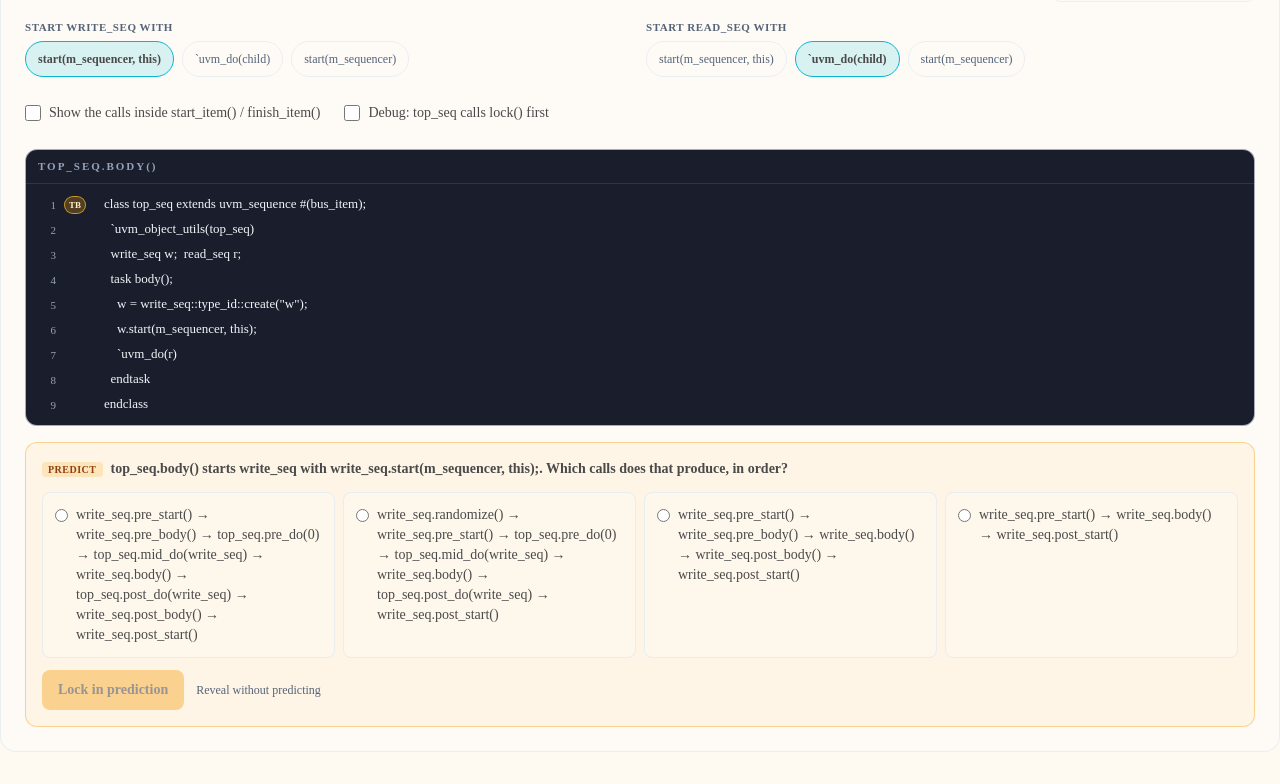
Test: UvmSequenceHierarchyVisualizer › `uvm_do skips pre_body/post_body for read_seq (call_pre_post = 0)
(page scrolled)
Click the button "Reveal without predicting" at (258, 690), box 196,682 -> 321,698
(page scrolled)
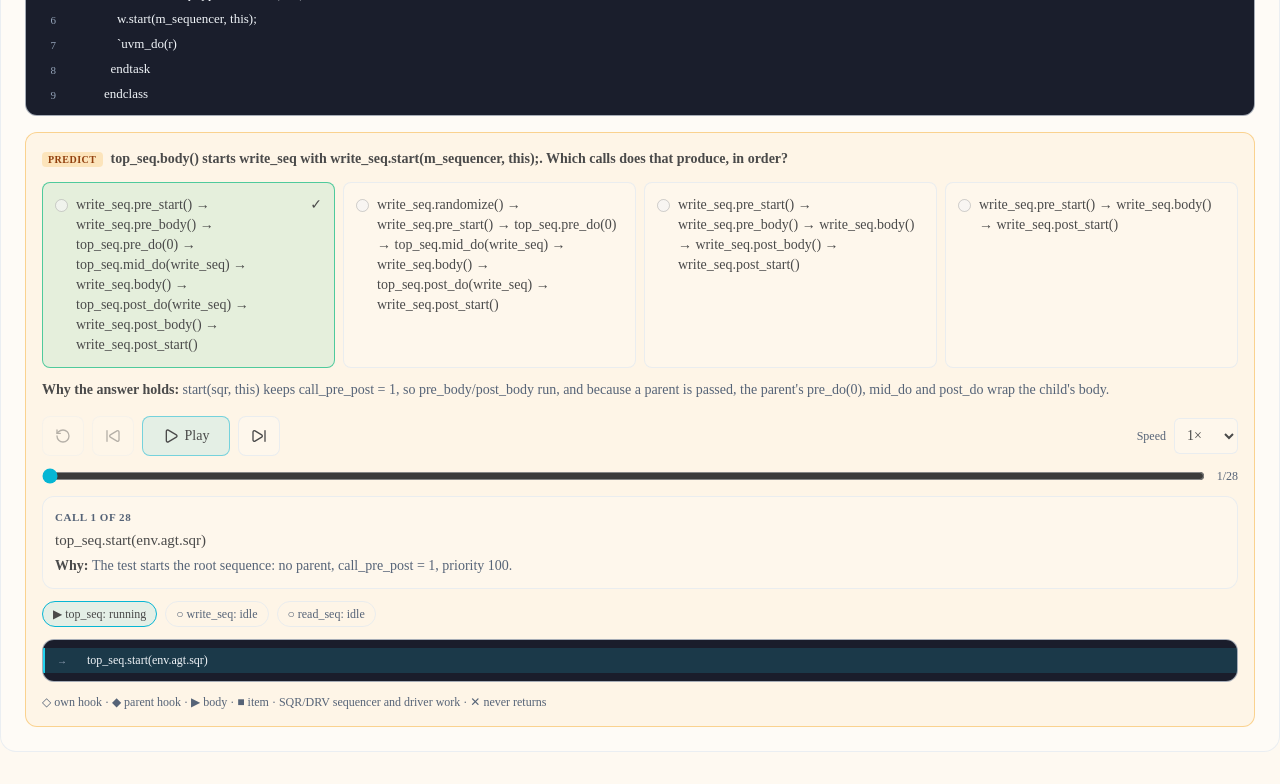
Set the slider to "999" at (623, 476), box 42,472 -> 1205,480
(page scrolled)
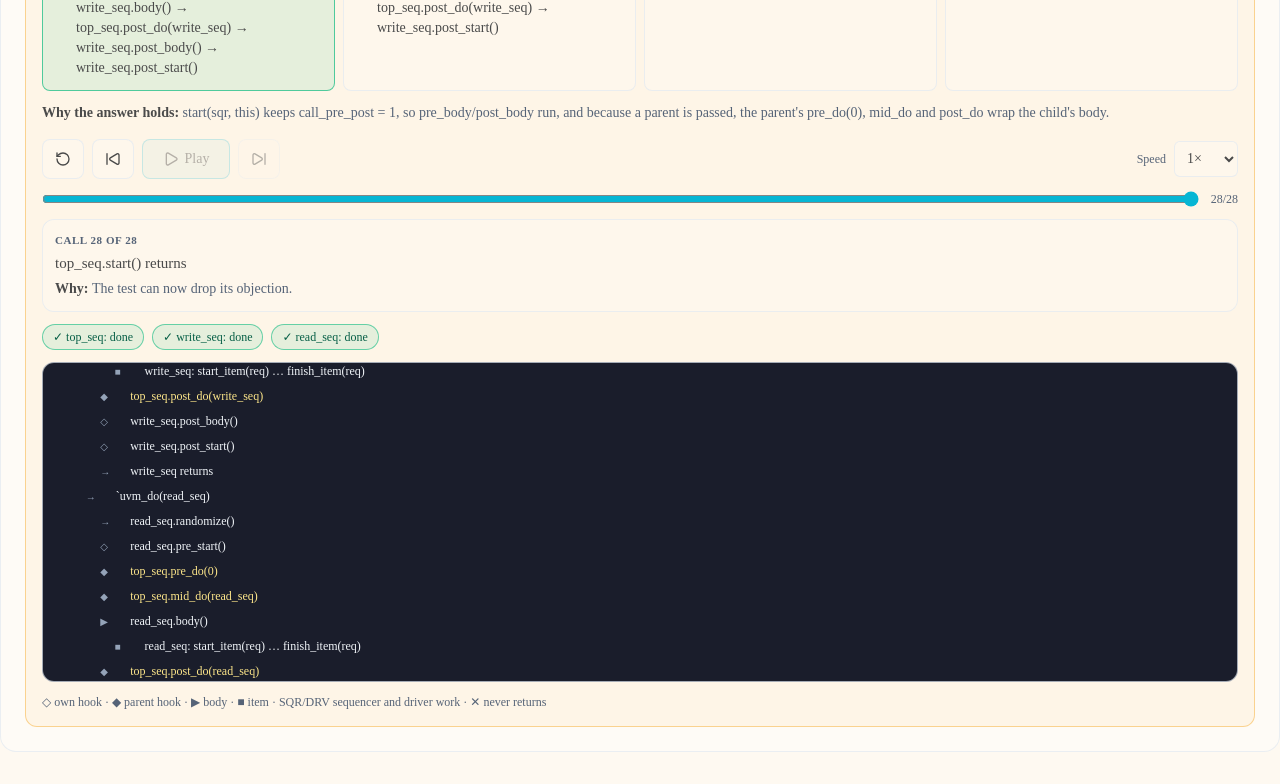
Result: the list item "top_seq.mid_do(read_seq)" is shown at 130,588 -> 258,602
Result: the list item "read_seq.randomize()" is shown at 130,514 -> 234,528
